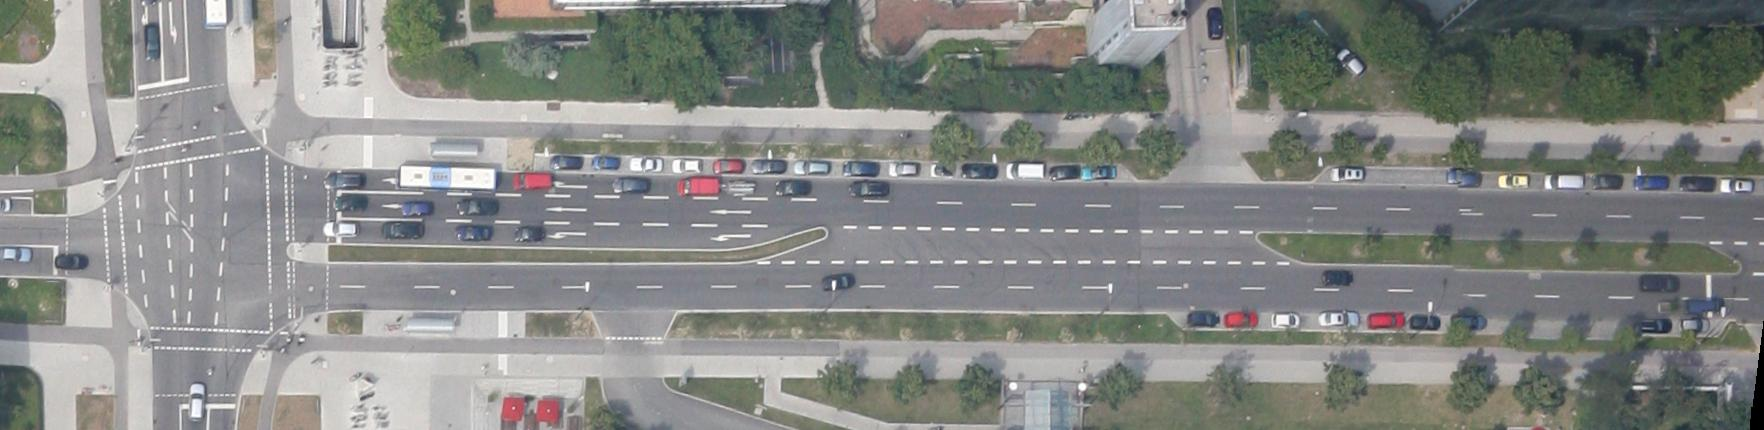car: (1335, 47, 1368, 80), (678, 176, 718, 196), (455, 198, 498, 216), (1638, 274, 1680, 292), (512, 172, 552, 190), (1685, 297, 1724, 315), (188, 382, 206, 421), (382, 221, 422, 238), (849, 180, 889, 197), (1007, 162, 1044, 180), (1544, 173, 1583, 189), (1318, 312, 1358, 327), (822, 273, 855, 291), (1206, 6, 1224, 39), (324, 173, 361, 189), (612, 177, 649, 193), (775, 180, 811, 196), (842, 161, 878, 177), (55, 253, 88, 270), (333, 194, 366, 211), (144, 26, 160, 61), (1368, 312, 1403, 328), (323, 221, 357, 237), (1450, 314, 1484, 330), (1446, 170, 1480, 186), (1679, 176, 1714, 191), (1633, 175, 1668, 190), (454, 226, 491, 240), (514, 226, 546, 242), (1187, 310, 1219, 326), (1224, 311, 1256, 327), (1082, 165, 1116, 180), (1271, 311, 1299, 329), (963, 163, 996, 178), (1591, 173, 1621, 189), (630, 157, 662, 172), (1322, 270, 1352, 286), (1719, 178, 1753, 192), (1, 247, 32, 262), (1330, 166, 1363, 180), (728, 179, 753, 197), (1409, 314, 1439, 329), (1678, 318, 1708, 333), (1050, 165, 1080, 180), (402, 200, 430, 216), (752, 159, 784, 173), (550, 155, 582, 169), (794, 161, 828, 174), (1498, 174, 1528, 188), (1642, 318, 1670, 332), (889, 162, 917, 176), (672, 158, 700, 172), (592, 156, 620, 170), (712, 160, 742, 173), (930, 162, 952, 176), (1657, 300, 1678, 314)
